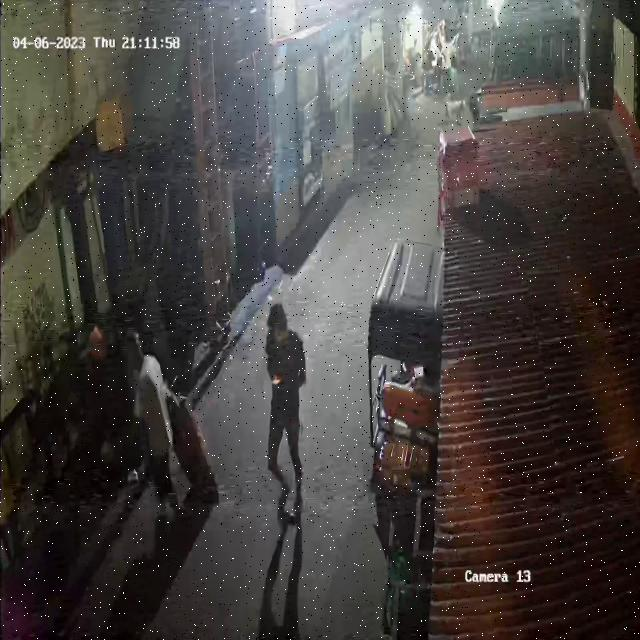human: (123, 329, 219, 510), (260, 301, 307, 514)
